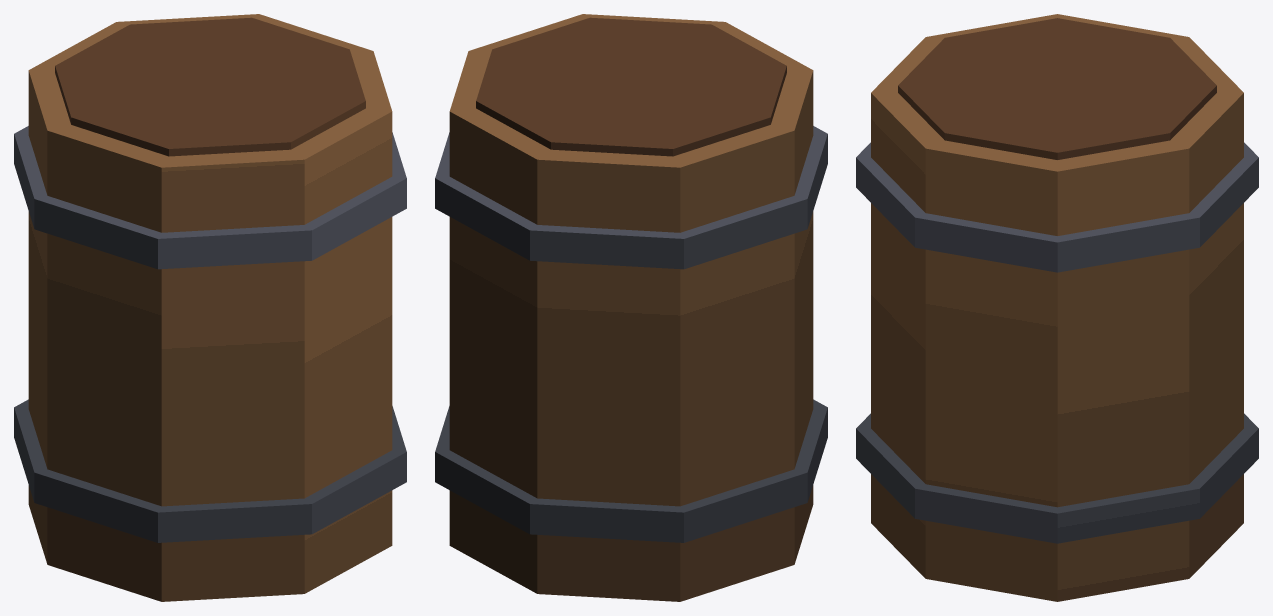
File: barrel.glb
3 views of the same model, side by side, from view 1: azimuth 30°, elevation 25°; view 2: azimuth 150°, elevation 25°; view 3: azimuth 270°, elevation 25° (orthographic).
Size of the model in its own units: 0.594 by 0.712 by 0.594.
1 material, 1 textured.
